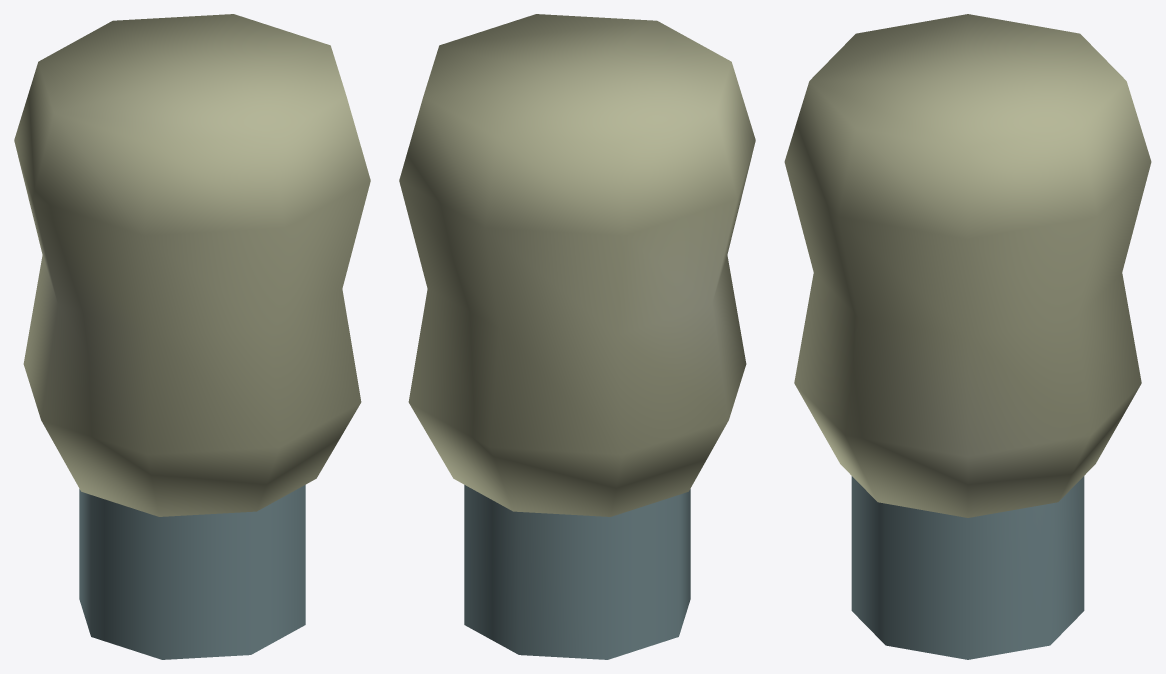
The model's file is LampSmall.fbx.
3 views of the same model, side by side, from view 1: azimuth 30°, elevation 25°; view 2: azimuth 150°, elevation 25°; view 3: azimuth 270°, elevation 25° (orthographic).
Visible parts, largest first — view 1: LampSmall; view 2: LampSmall; view 3: LampSmall.
Part boxes in pixels (x1,y1,x2,y2): LampSmall: [14, 14, 370, 659]; LampSmall: [399, 14, 755, 659]; LampSmall: [784, 14, 1151, 659].
Size of the model in its own units: 19.89 by 31.68 by 19.89.
